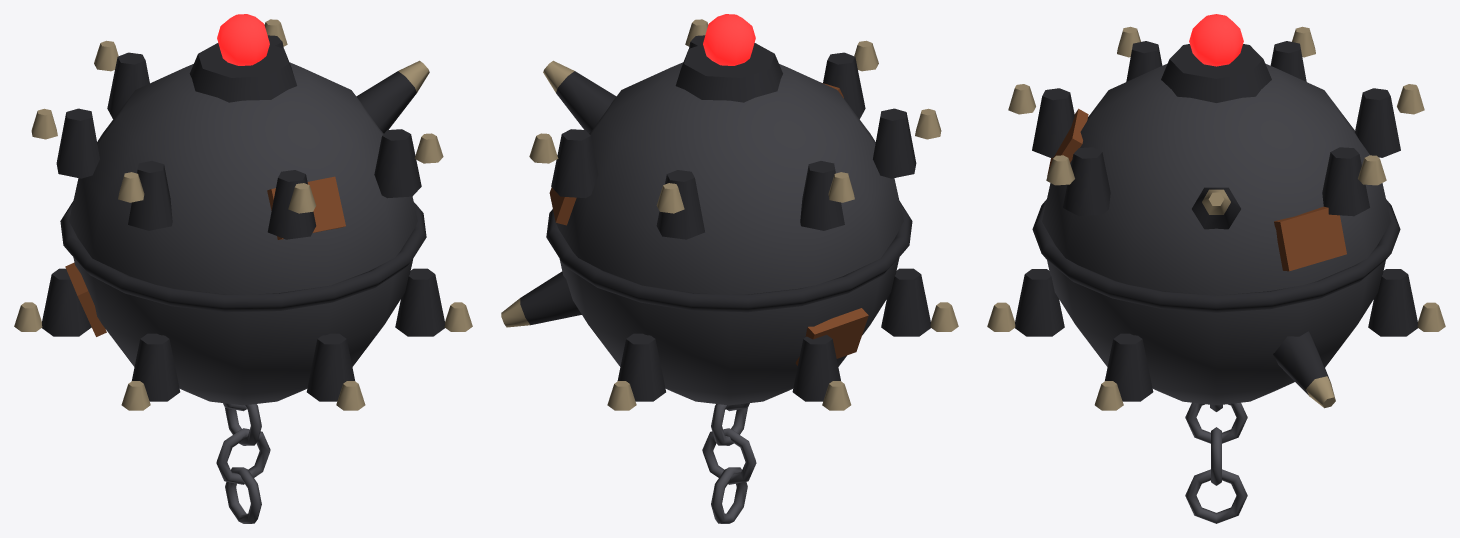
The model's file is sea-mine.glb.
3 renders of one model, left to right at view 1: azimuth 30°, elevation 25°; view 2: azimuth 150°, elevation 25°; view 3: azimuth 270°, elevation 25°, orthographic.
Visible parts, largest first — view 1: Mesh_Body, Mesh_SeamBand, Mesh_Collar, Mesh_HornLowerStub5, Mesh_HornUpperStub6, Mesh_HornLowerStub3, Mesh_HornLowerStub4, Mesh_HornUpperStub3, Mesh_HornLowerStub2, Mesh_HornUpperStub4, Mesh_Light, Mesh_HornUpperStub5 (+16 smaller); view 2: Mesh_Body, Mesh_SeamBand, Mesh_Collar, Mesh_HornLowerStub3, Mesh_HornUpperStub1, Mesh_HornLowerStub1, Mesh_HornUpperStub4, Mesh_HornLowerStub2, Mesh_HornUpperStub3, Mesh_Light, Mesh_HornUpperStub2, Mesh_HornUpperStub0 (+15 smaller); view 3: Mesh_Body, Mesh_SeamBand, Mesh_Collar, Mesh_Rust0, Mesh_HornLowerStub1, Mesh_HornLowerStub4, Mesh_HornUpperStub6, Mesh_HornUpperStub1, Mesh_HornLowerStub5, Mesh_HornUpperStub2, Mesh_Light, Mesh_HornUpperStub5 (+17 smaller).
Boxes of the visible parts, box(x1,y1,x2,y2) form: Mesh_Body: box(69, 62, 417, 405); Mesh_SeamBand: box(60, 201, 426, 312); Mesh_Collar: box(189, 43, 296, 102); Mesh_HornLowerStub5: box(395, 268, 444, 336); Mesh_HornUpperStub6: box(374, 129, 421, 198); Mesh_HornLowerStub3: box(132, 333, 180, 401); Mesh_HornLowerStub4: box(306, 333, 354, 401); Mesh_HornUpperStub3: box(56, 108, 99, 178); Mesh_HornLowerStub2: box(42, 268, 91, 336); Mesh_HornUpperStub4: box(128, 161, 172, 230); Mesh_Light: box(217, 14, 269, 65); Mesh_HornUpperStub5: box(267, 170, 316, 239); Mesh_Body: box(555, 62, 903, 405); Mesh_SeamBand: box(546, 201, 912, 312); Mesh_Collar: box(675, 43, 782, 102); Mesh_HornLowerStub3: box(881, 268, 930, 336); Mesh_HornUpperStub1: box(551, 129, 598, 198); Mesh_HornLowerStub1: box(617, 333, 665, 401); Mesh_HornUpperStub4: box(873, 108, 916, 178); Mesh_HornLowerStub2: box(792, 334, 840, 401); Mesh_HornUpperStub3: box(800, 161, 844, 230); Mesh_Light: box(703, 14, 755, 65); Mesh_HornUpperStub2: box(656, 170, 704, 239); Mesh_HornUpperStub0: box(556, 71, 616, 133); Mesh_Body: box(1042, 63, 1390, 405); Mesh_SeamBand: box(1032, 199, 1400, 312); Mesh_Collar: box(1161, 44, 1271, 102); Mesh_Rust0: box(1274, 206, 1346, 271); Mesh_HornLowerStub1: box(1368, 269, 1417, 336); Mesh_HornLowerStub4: box(1015, 269, 1064, 336); Mesh_HornUpperStub6: box(1063, 147, 1110, 216); Mesh_HornUpperStub1: box(1322, 147, 1369, 216); Mesh_HornLowerStub5: box(1105, 333, 1153, 401); Mesh_HornUpperStub2: box(1355, 88, 1400, 157); Mesh_Light: box(1189, 14, 1243, 66); Mesh_HornUpperStub5: box(1032, 88, 1074, 157).
Size of the model in its own units: 2.1 by 2.86 by 2.34.
